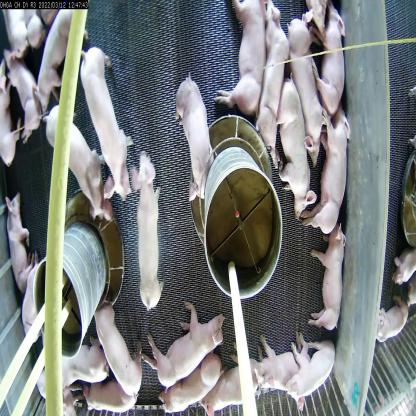Pig: (40, 99, 115, 238), (77, 41, 135, 200), (126, 142, 168, 309), (147, 306, 224, 390), (36, 12, 103, 102), (171, 62, 211, 209), (94, 300, 149, 394), (282, 0, 317, 143), (308, 220, 350, 338), (281, 75, 315, 218), (222, 0, 262, 120), (317, 105, 349, 240), (254, 1, 282, 155), (317, 12, 351, 134), (154, 356, 220, 415), (4, 46, 44, 136), (52, 327, 111, 387), (257, 333, 303, 405), (22, 261, 58, 351), (293, 333, 336, 404), (205, 359, 259, 415), (6, 196, 33, 294), (86, 376, 146, 415)
